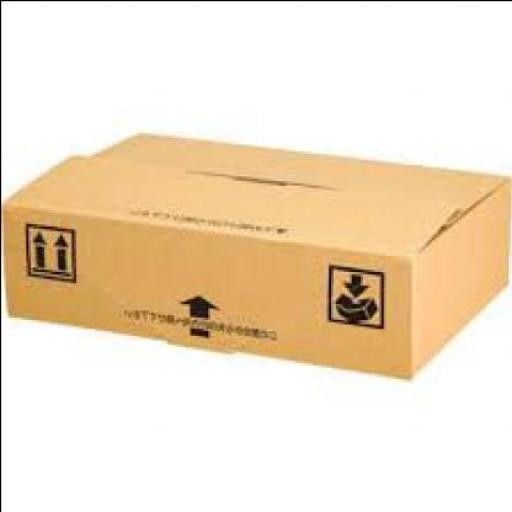cardboard: (4, 129, 510, 377)
